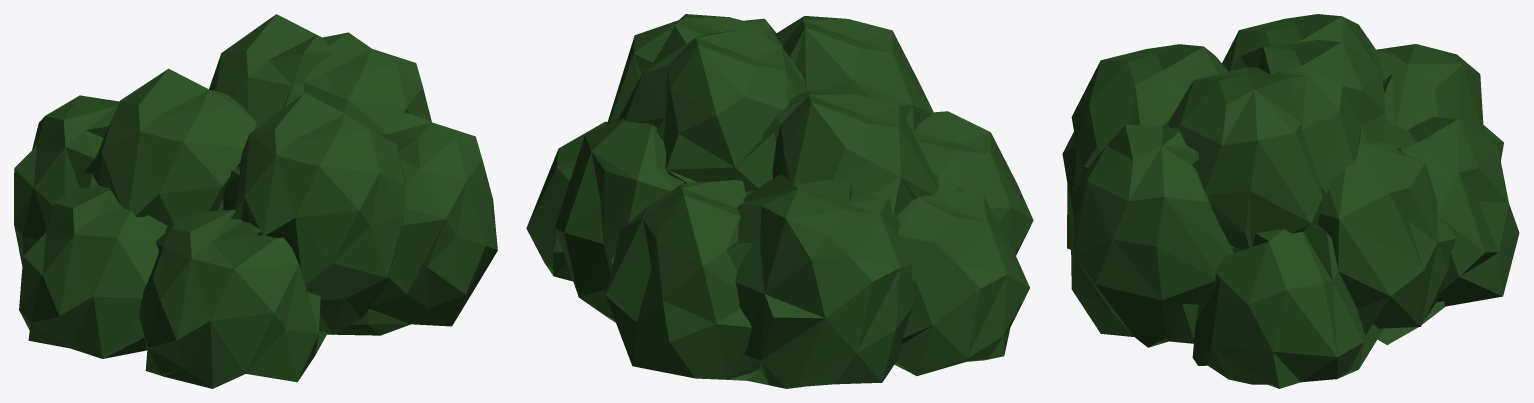
Rendered from shrub__1.fbx.
3 views of the same model, side by side, from view 1: azimuth 30°, elevation 25°; view 2: azimuth 150°, elevation 25°; view 3: azimuth 270°, elevation 25° (orthographic). The views are drawn at different scales.
Parts seen in each view (by area): view 1: bush; view 2: bush; view 3: bush.
Boxes of the visible parts, <box> form: bush: <box>14,14,497,388</box>; bush: <box>526,14,1033,388</box>; bush: <box>1062,14,1519,388</box>.
Bounding box in the file's own units: 470 × 258 × 401.
